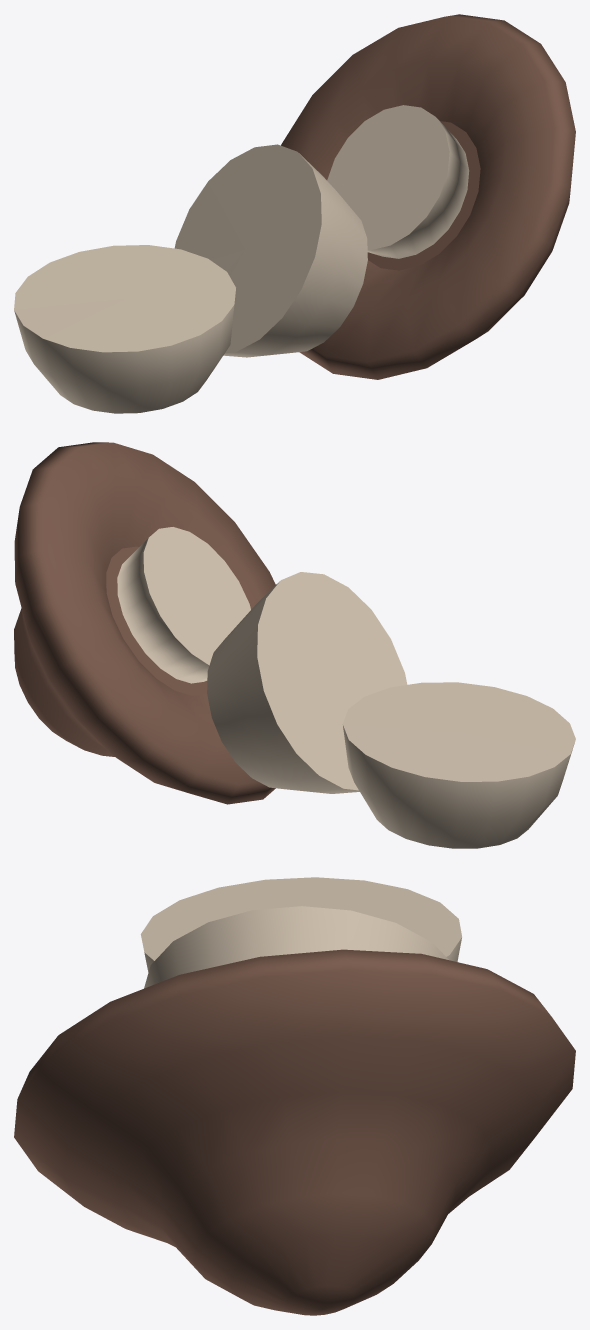
Rendered from HongoCortado.fbx.
3 views of the same model, one above another, from view 1: azimuth 30°, elevation 25°; view 2: azimuth 150°, elevation 25°; view 3: azimuth 270°, elevation 25° (orthographic). The views are drawn at different scales.
Parts seen in each view (by area): view 1: HongoTop, polySurface1, polySurface4, polySurface3; view 2: HongoTop, polySurface1, polySurface4, polySurface3; view 3: HongoTop, polySurface4, polySurface1.
Part boxes in pixels (box(x1,y1,x2,y2)): HongoTop: box(281, 14, 575, 379); polySurface1: box(14, 245, 235, 413); polySurface4: box(174, 144, 367, 357); polySurface3: box(327, 105, 469, 258); HongoTop: box(14, 442, 275, 804); polySurface1: box(342, 682, 575, 848); polySurface4: box(207, 572, 407, 793); polySurface3: box(117, 527, 250, 683); HongoTop: box(14, 949, 575, 1315); polySurface4: box(144, 906, 448, 988); polySurface1: box(140, 877, 461, 972).
Bounding box in the file's own units: 1.14 × 0.5932 × 0.7512.
